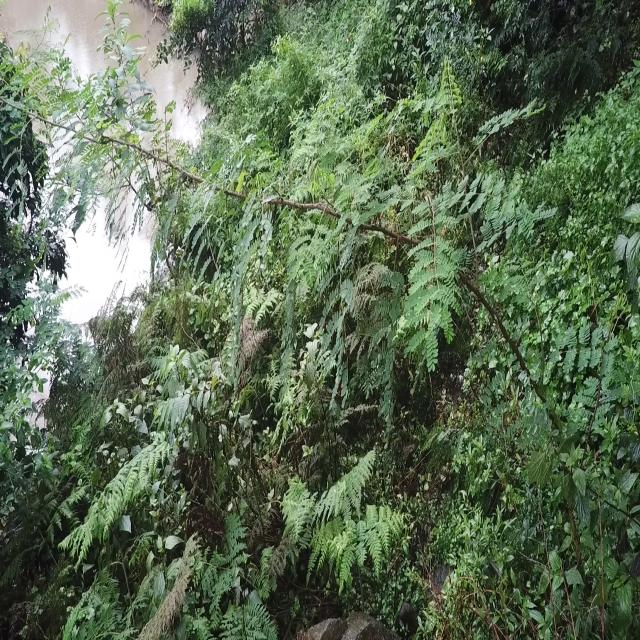Mysore-Thorn-Weed: (397, 55, 640, 621), (0, 4, 384, 277)
